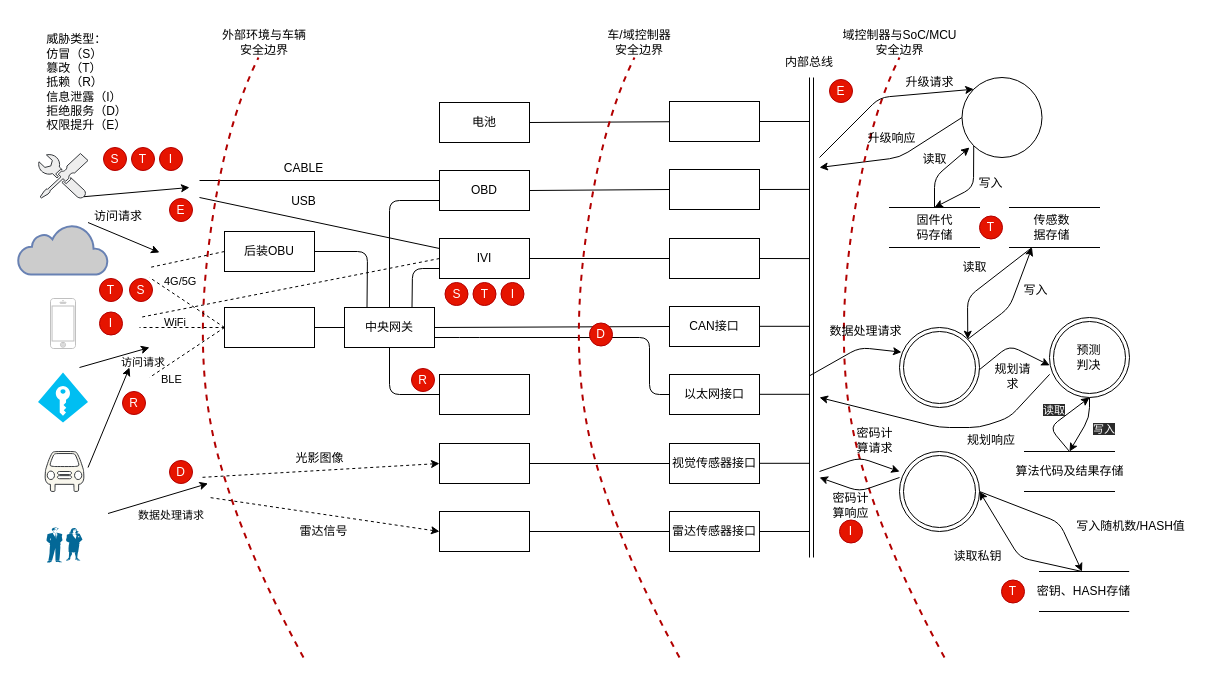
Image size: 1212x675. Some labels were removed from this diagram. The centre of each missing label's shape, as x and y in pixels:
"T-Box" belongs at point 269,327.
"供电模块" belongs at point 714,121.
"其他预控制器 1～N" belongs at point 484,394.
"升级" belongs at point 1001,117.
"密码计算" belongs at point 939,491.
"摄像头" belongs at point 484,463.
"数据 处理" belongs at point 939,367.
"视频输出" belongs at point 714,258.
"诊断接口" belongs at point 714,189.
"雷达" belongs at point 484,531.
